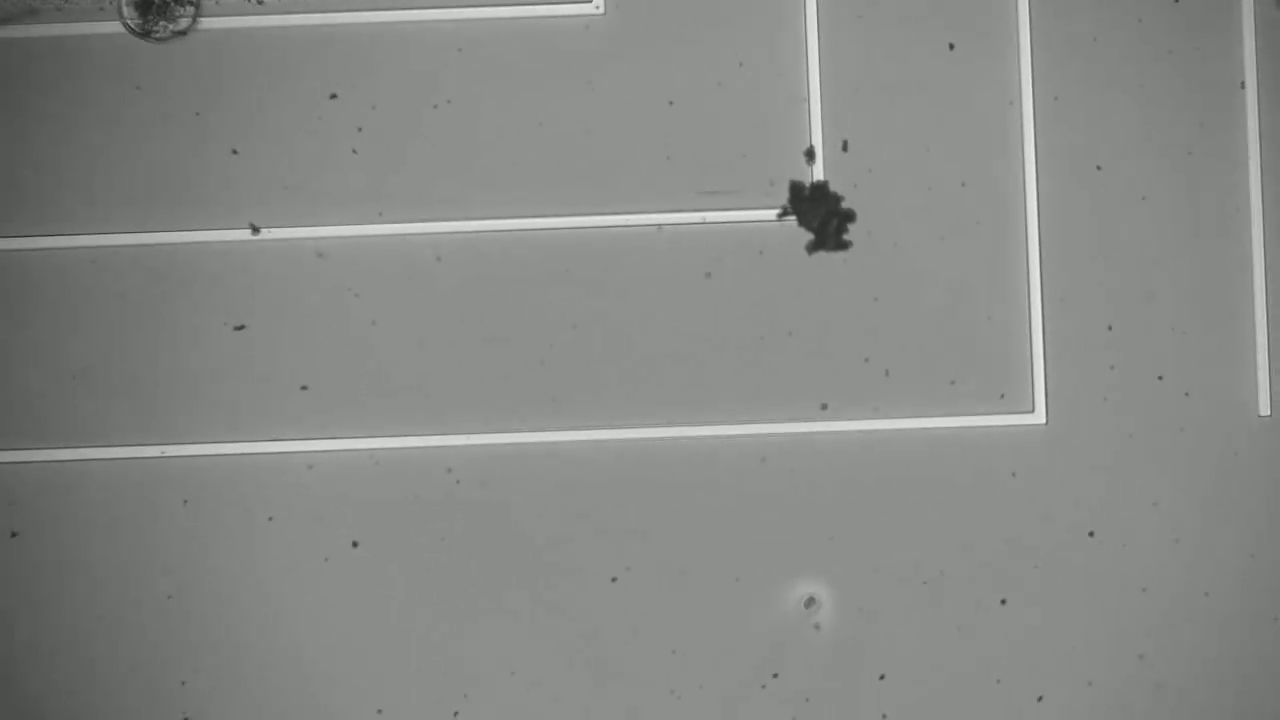stains_enbedded: (772, 158, 869, 264)
